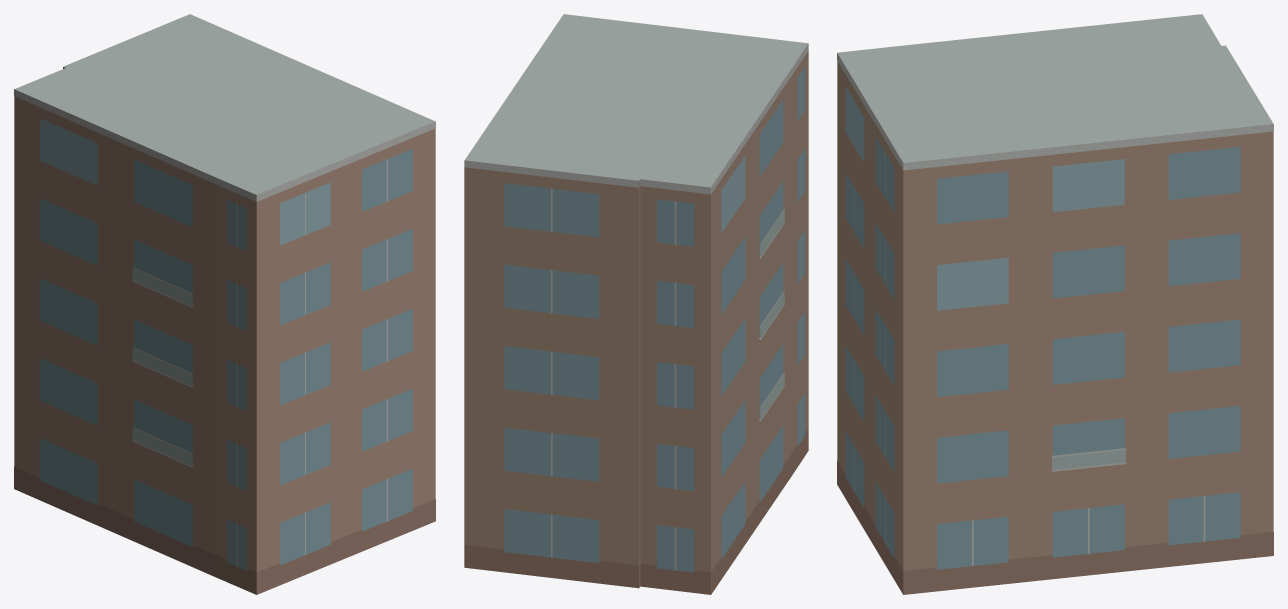
File: survey-upis-33005568.glb
3 views of the same model, side by side, from view 1: azimuth 30°, elevation 25°; view 2: azimuth 150°, elevation 25°; view 3: azimuth 270°, elevation 25° (orthographic). The views are drawn at different scales.
Visible parts, largest first — view 1: survey-upis-33005568.tmp; view 2: survey-upis-33005568.tmp; view 3: survey-upis-33005568.tmp.
Part boxes in pixels (x1,y1,x2,y2): survey-upis-33005568.tmp: [14, 14, 435, 594]; survey-upis-33005568.tmp: [464, 14, 808, 594]; survey-upis-33005568.tmp: [837, 14, 1273, 594].
Size of the model in its own units: 10.6 by 14.3 by 13.12.
